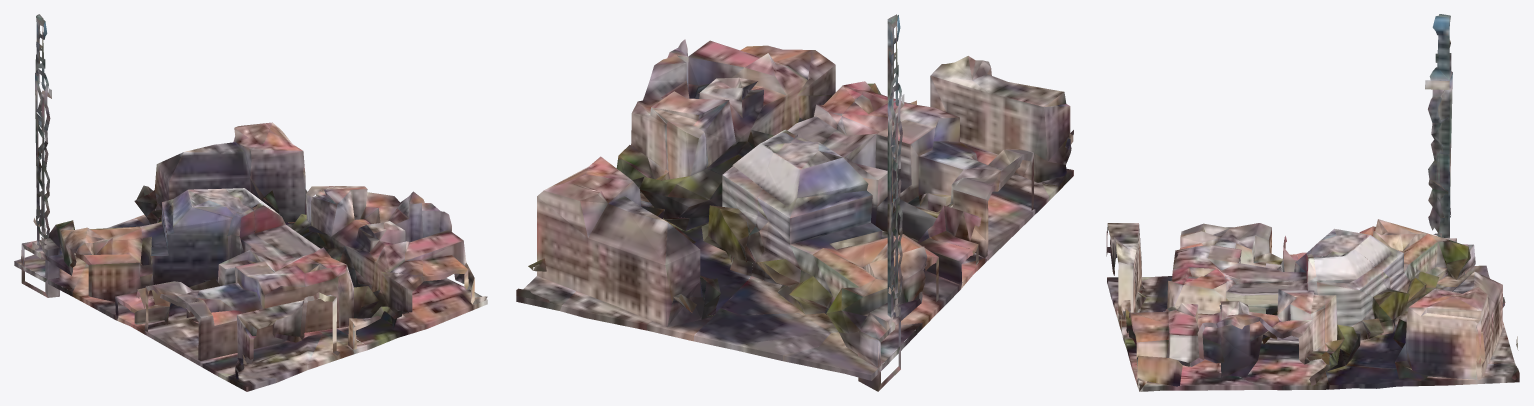
3 views of the same model, side by side, from view 1: azimuth 30°, elevation 25°; view 2: azimuth 150°, elevation 25°; view 3: azimuth 270°, elevation 25° (orthographic). The views are drawn at different scales.
Visible parts, largest first — view 1: Mesh_0; view 2: Mesh_0; view 3: Mesh_0.
Part boxes in pixels (x1,y1,x2,y2): Mesh_0: [14, 14, 487, 391]; Mesh_0: [516, 14, 1073, 391]; Mesh_0: [1106, 14, 1519, 391].
Size of the model in its own units: 133 by 120 by 165.
Materials: 1 (1 with a texture image).
